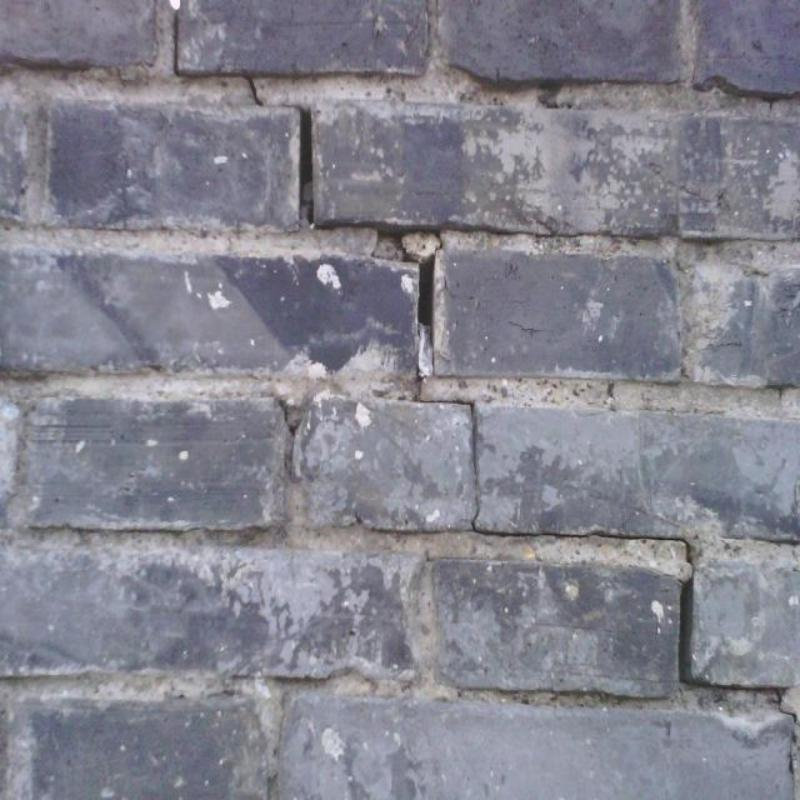crack: (476, 530, 798, 722), (376, 225, 442, 366), (420, 398, 481, 531), (280, 104, 315, 224), (440, 226, 602, 239), (279, 400, 301, 439), (371, 238, 399, 260), (245, 77, 262, 106), (174, 10, 180, 78), (416, 369, 428, 390)
